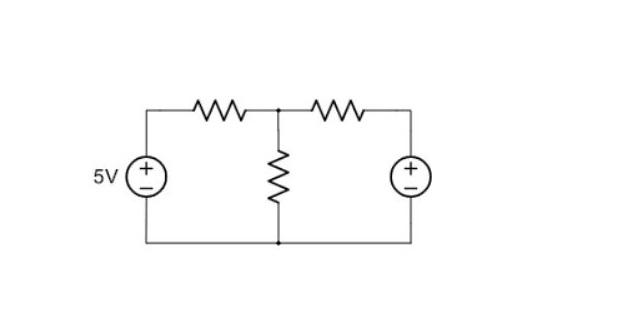resistor: (177, 86, 264, 133), (256, 135, 304, 220), (296, 87, 371, 140)
